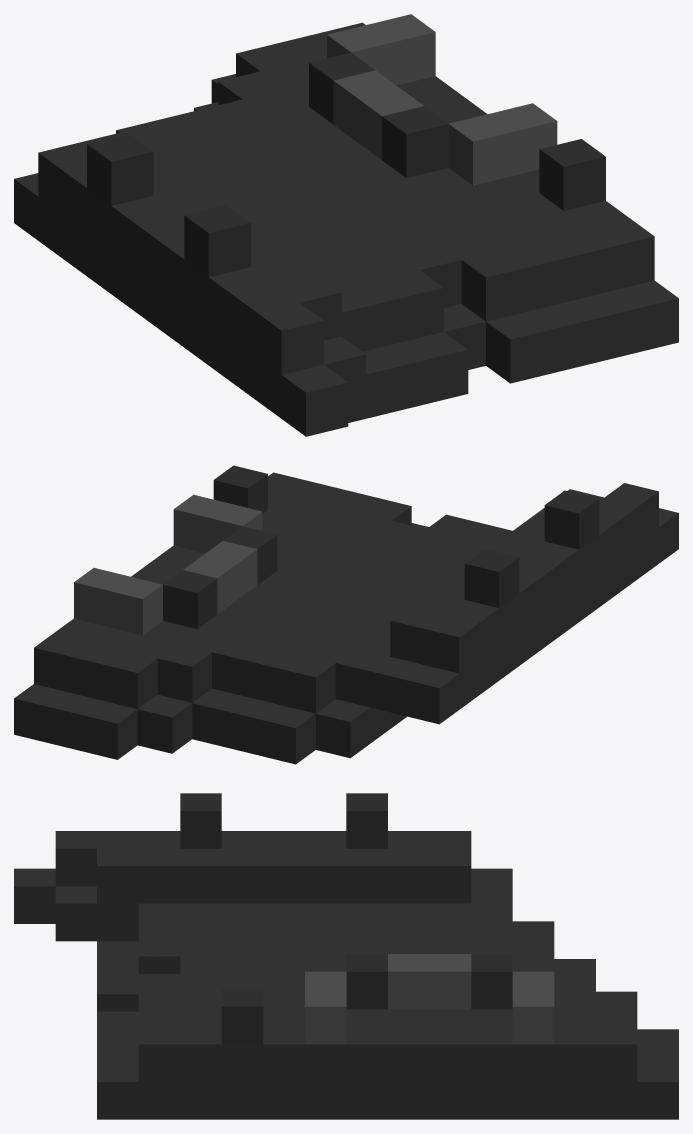
File: Extra-9-RedFighter_Wing2_R.obj
3 views of the same model, one above another, from view 1: azimuth 30°, elevation 25°; view 2: azimuth 150°, elevation 25°; view 3: azimuth 270°, elevation 25° (orthographic). The views are drawn at different scales.
Parts seen in each view (by area): view 1: RedFighter_Wing2_R; view 2: RedFighter_Wing2_R; view 3: RedFighter_Wing2_R.
Boxes of the visible parts, x1=… form: RedFighter_Wing2_R: x1=14, y1=14, x2=678, y2=436; RedFighter_Wing2_R: x1=14, y1=465, x2=678, y2=764; RedFighter_Wing2_R: x1=14, y1=793, x2=678, y2=1119.
Bounding box in the file's own units: 1 × 0.4 × 1.6.
Materials: 1 (1 with a texture image).
